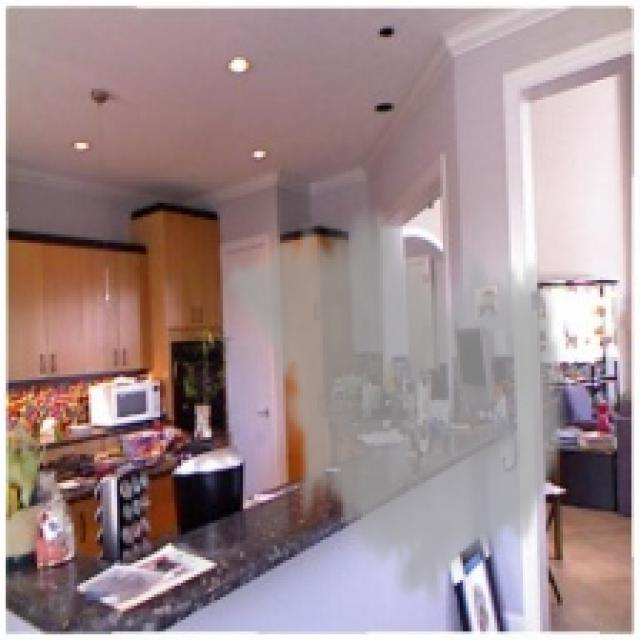smoke: (223, 194, 571, 612)
